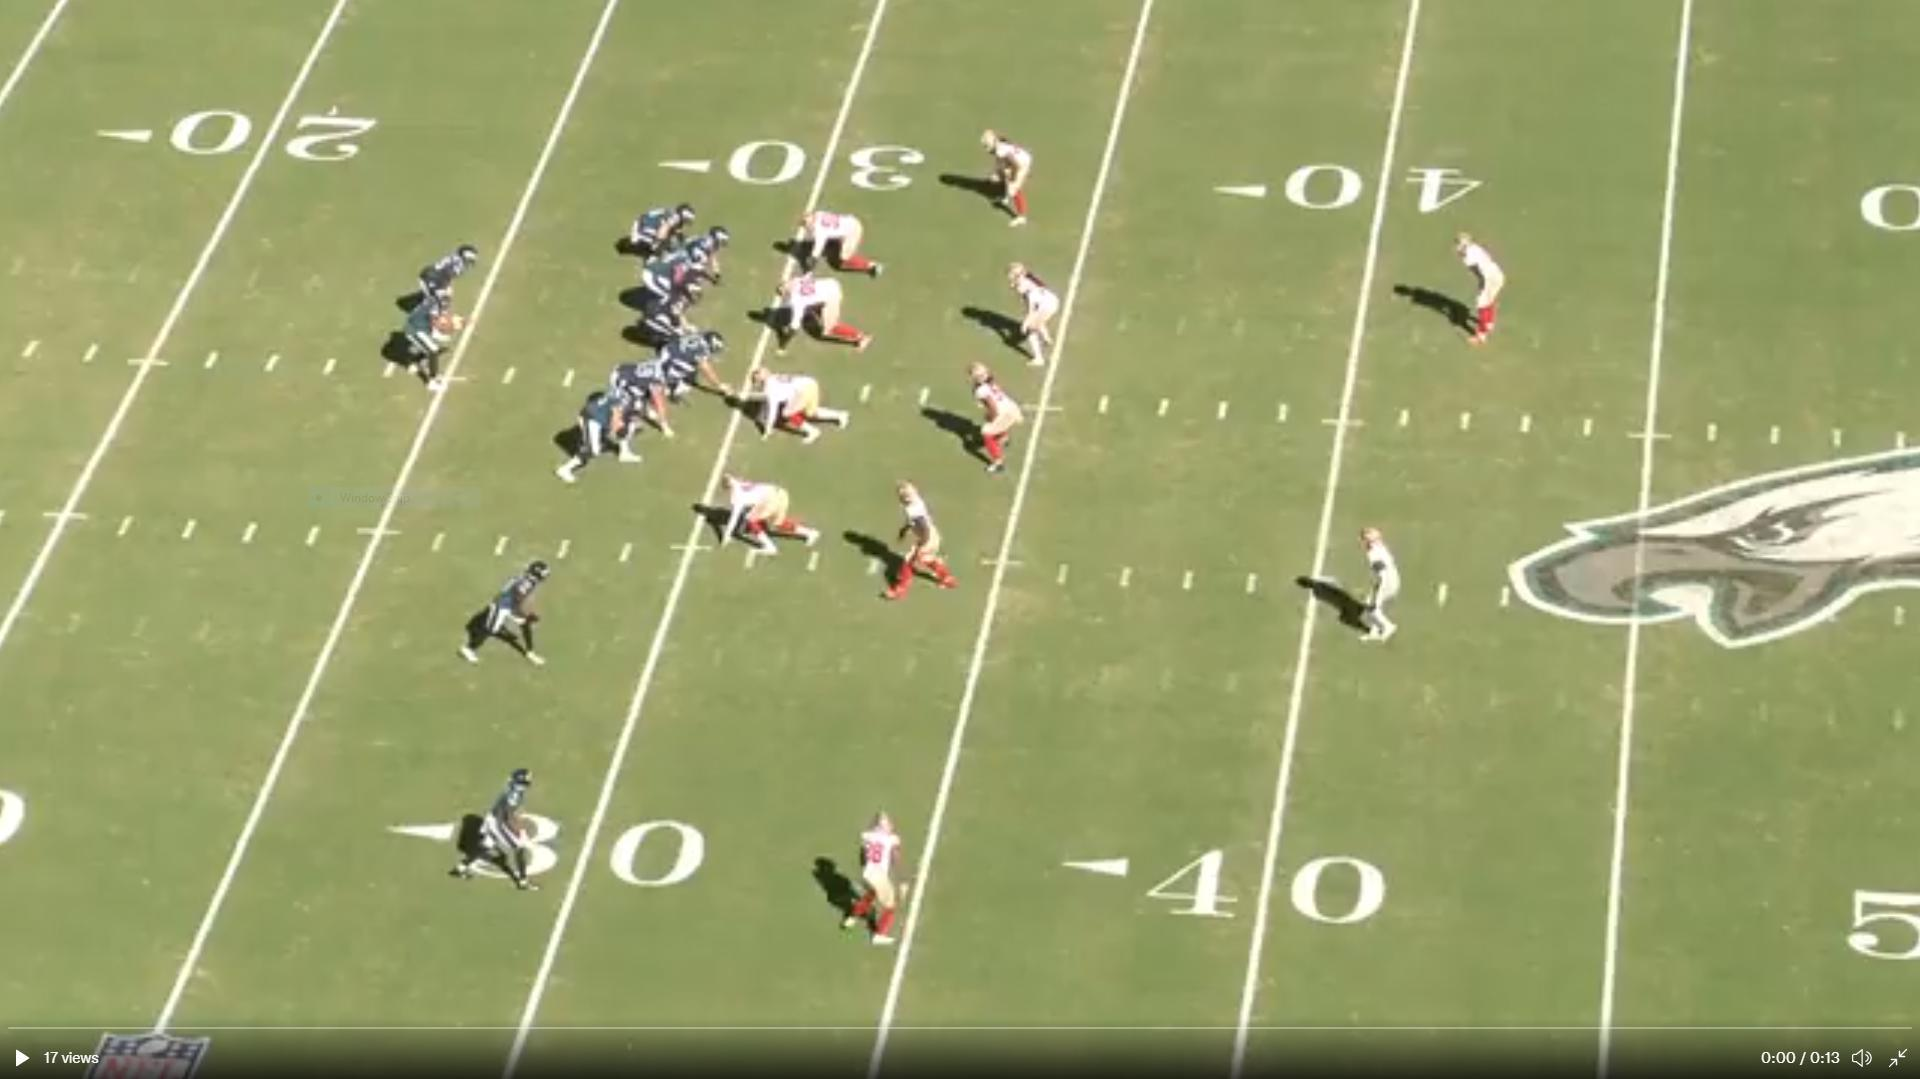defense: (692, 472, 818, 561), (880, 478, 961, 605), (840, 807, 909, 954), (766, 269, 877, 357), (750, 369, 856, 452), (1353, 521, 1408, 656), (794, 207, 890, 284), (1453, 232, 1513, 355), (964, 361, 1021, 480), (1009, 259, 1065, 371), (977, 128, 1035, 231)
oline: (551, 377, 647, 489), (608, 356, 682, 445), (638, 236, 704, 328), (658, 327, 729, 408), (641, 281, 708, 352)
qb: (394, 280, 465, 396)
skill: (448, 760, 538, 893), (460, 555, 559, 675), (617, 199, 698, 294), (407, 241, 480, 338), (665, 226, 737, 297)
